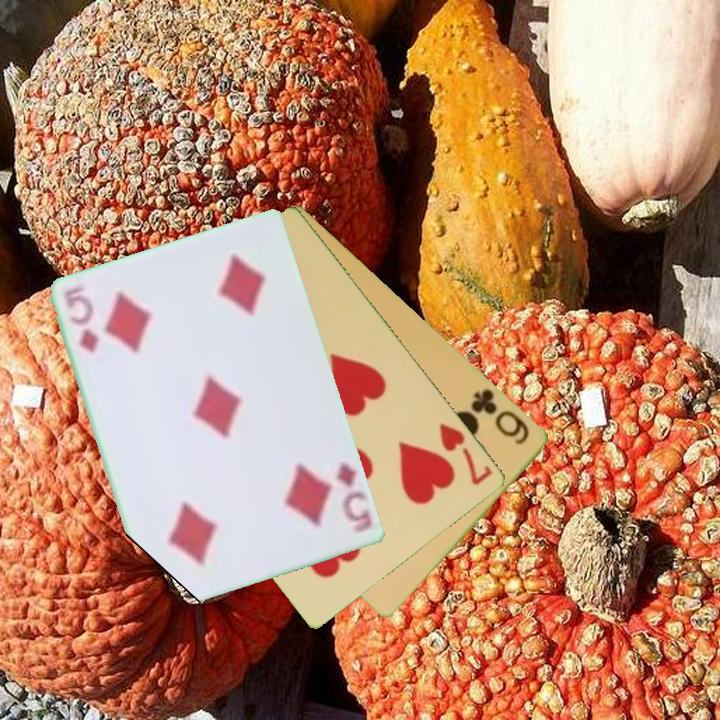5d: (333, 458, 376, 536), (65, 296, 103, 357)
6c: (468, 385, 533, 448)
7h: (435, 419, 496, 488)
